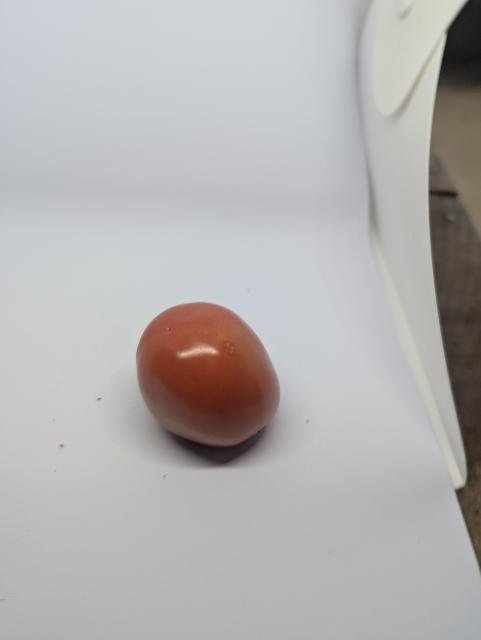red: (133, 298, 288, 448)
